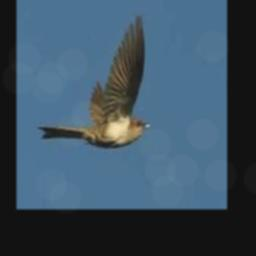Cuckoo: (37, 14, 151, 147)
